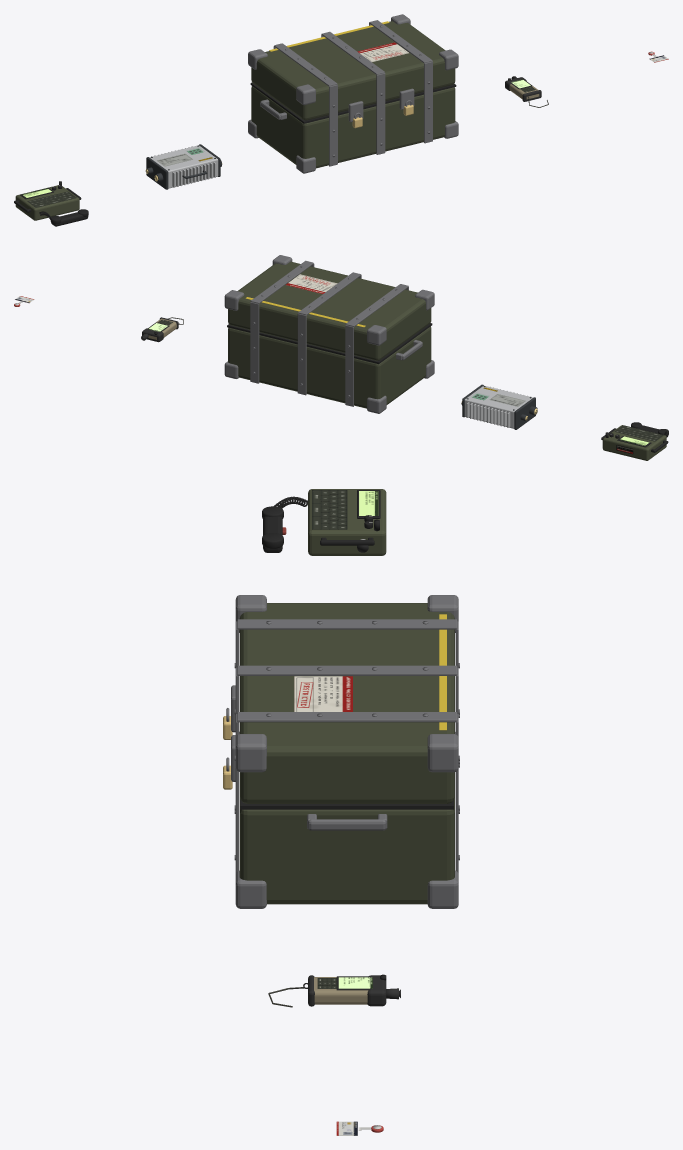
Rendered from items3.glb.
The picture shows the model from 3 angles, top to bottom: view 1: azimuth 30°, elevation 25°; view 2: azimuth 150°, elevation 25°; view 3: azimuth 270°, elevation 25°; orthographic projection. The views are drawn at different scales.
Visible parts, largest first — view 1: i13_lid, i13_body, i12_body, i11_body, i13_bandS0-1, i13_bandS-0.28-1, i13_bandS0.28-1, i13_placard, i13_seam, i13_bandT-0.28, i13_bandT0, i13_bandT0.28 (+3 smaller); view 2: i13_lid, i13_body, i12_body, i11_body, i13_bandS0.281, i13_bandS01, i13_bandS-0.281, i13_seam, i13_placard, i13_bandT0, i13_bandT-0.28, i13_bandT0.28 (+3 smaller); view 3: i13_lid, i13_body, i11_body, i13_bandT0, i13_bandT0.28, i13_bandT-0.28, i13_placard, i11_keys, i13_seam, i13_corner110.42000000000000004, i13_corner1-10.42000000000000004, i13_corner1-10.035 (+2 smaller).
Part boxes in pixels (x1,y1,x2,y2): i13_lid: [251, 21, 455, 120]; i13_body: [251, 86, 455, 168]; i12_body: [149, 145, 218, 188]; i11_body: [15, 185, 79, 220]; i13_bandS0-1: [376, 73, 385, 154]; i13_bandS-0.28-1: [329, 84, 337, 166]; i13_bandS0.28-1: [424, 61, 432, 143]; i13_placard: [357, 42, 408, 61]; i13_seam: [250, 82, 456, 123]; i13_bandT-0.28: [274, 43, 337, 86]; i13_bandT0: [321, 31, 384, 74]; i13_bandT0.28: [369, 20, 432, 63]; i13_lid: [228, 261, 431, 360]; i13_body: [228, 326, 431, 408]; i12_body: [464, 385, 532, 428]; i11_body: [602, 425, 666, 460]; i13_bandS0.281: [250, 302, 259, 383]; i13_bandS01: [297, 313, 306, 395]; i13_bandS-0.281: [345, 325, 353, 406]; i13_seam: [227, 323, 432, 364]; i13_placard: [286, 274, 337, 293]; i13_bandT0: [298, 272, 361, 315]; i13_bandT-0.28: [345, 284, 408, 326]; i13_bandT0.28: [250, 260, 313, 303]; i13_lid: [239, 603, 454, 803]; i13_body: [239, 797, 454, 904]; i11_body: [308, 489, 386, 555]; i13_bandT0: [237, 665, 457, 675]; i13_bandT0.28: [237, 712, 457, 722]; i13_bandT-0.28: [237, 619, 457, 629]; i13_placard: [294, 676, 352, 711]; i11_keys: [312, 490, 347, 529]; i13_seam: [240, 799, 453, 809]; i13_corner110.42000000000000004: [427, 734, 458, 772]; i13_corner1-10.42000000000000004: [235, 734, 266, 772]; i13_corner1-10.035: [235, 870, 266, 908].
Size of the model in its own units: 3.8 by 0.468 by 0.6055.
Materials: 29 (10 with a texture image).
